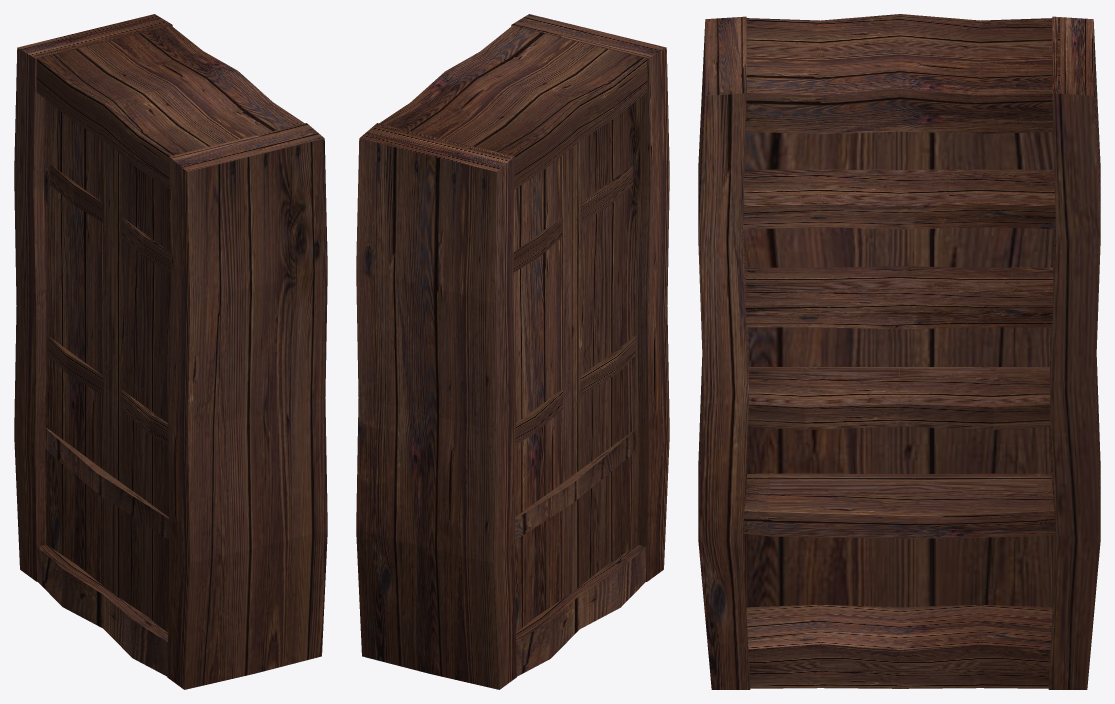
Rendered from bookshelf.obj.
3 views of the same model, side by side, from view 1: azimuth 30°, elevation 25°; view 2: azimuth 150°, elevation 25°; view 3: azimuth 270°, elevation 25° (orthographic). The views are drawn at different scales.
Parts seen in each view (by area): view 1: top_Cube.001; view 2: top_Cube.001; view 3: top_Cube.001.
Boxes of the visible parts, left/top/right/bottom form: top_Cube.001: left=14, top=14, right=327, bottom=689; top_Cube.001: left=356, top=14, right=669, bottom=689; top_Cube.001: left=698, top=14, right=1100, bottom=689.
Size of the model in its own units: 1.8 by 6.4 by 3.87.
